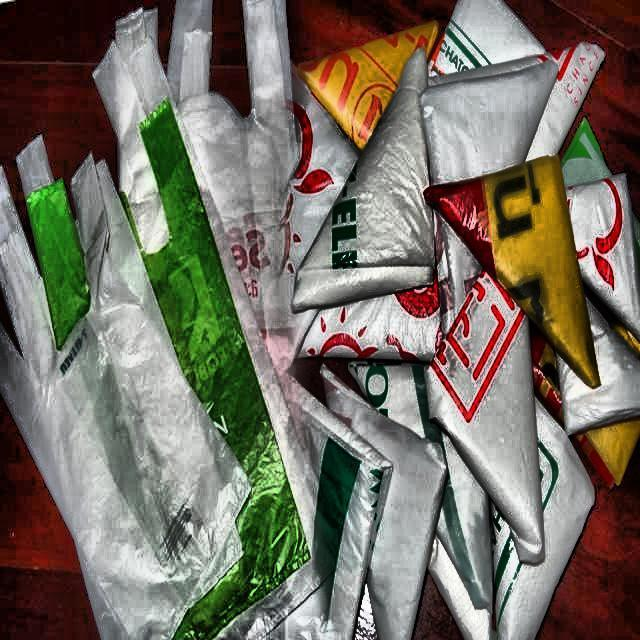Single-layer Plastic: (0, 158, 248, 639), (140, 100, 308, 640), (168, 0, 299, 361)
